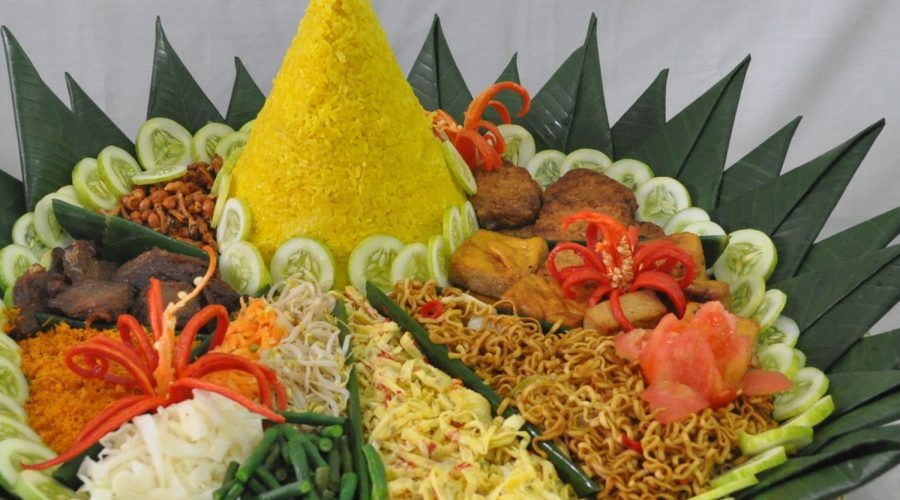tumpeng: (212, 26, 494, 235)
